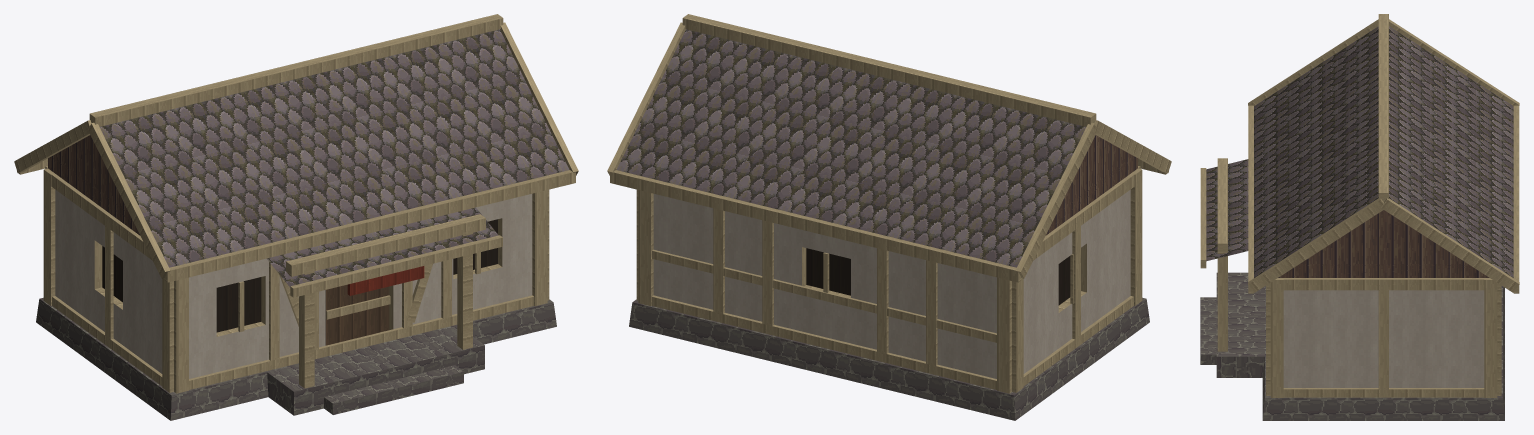
Rendered from trading_post_stage1.glb.
3 renders of one model, left to right at view 1: azimuth 30°, elevation 25°; view 2: azimuth 150°, elevation 25°; view 3: azimuth 270°, elevation 25°, orthographic. The views are drawn at different scales.
Parts seen in each view (by area): view 1: trading_post_stage1; view 2: trading_post_stage1; view 3: trading_post_stage1.
Part boxes in pixels (x1,y1,x2,y2): trading_post_stage1: (14,14,578,420); trading_post_stage1: (607,14,1171,420); trading_post_stage1: (1200,14,1519,420).
Size of the model in its own units: 7.58 by 4.53 by 5.64.
Materials: 8 (8 with a texture image).
